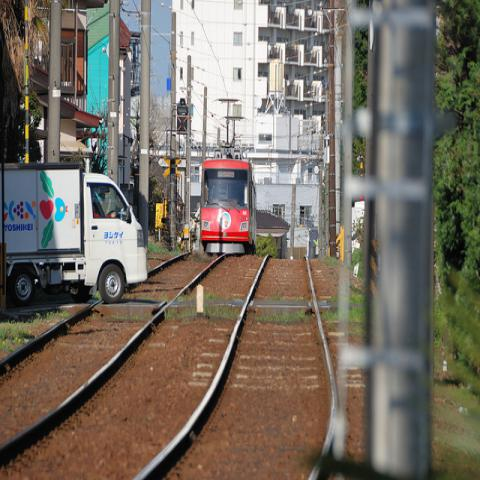truck: (2, 162, 148, 312)
